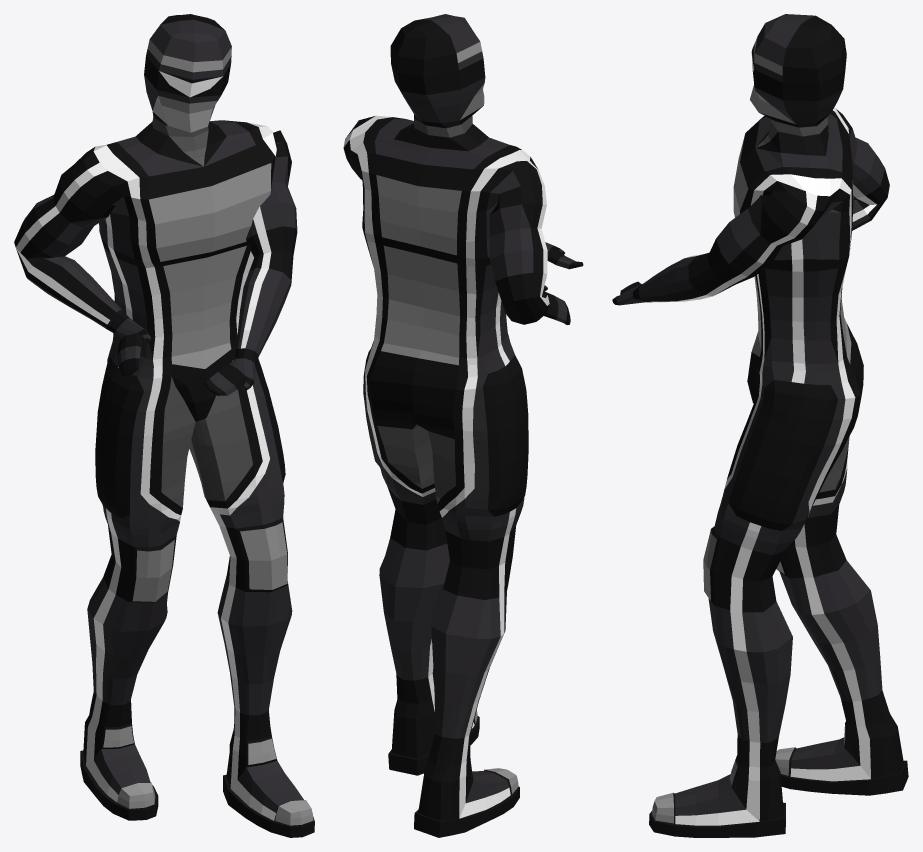
The picture shows the model from 3 angles, left to right: view 1: azimuth 30°, elevation 25°; view 2: azimuth 150°, elevation 25°; view 3: azimuth 270°, elevation 25°; orthographic projection. The views are drawn at different scales.
Parts seen in each view (by area): view 1: metarig_object_metarig_mesh; view 2: metarig_object_metarig_mesh; view 3: metarig_object_metarig_mesh.
Boxes of the visible parts, bbox=[...] form: metarig_object_metarig_mesh: bbox=[14, 14, 314, 837]; metarig_object_metarig_mesh: bbox=[343, 14, 583, 837]; metarig_object_metarig_mesh: bbox=[612, 14, 908, 837].
Bounding box in the file's own units: 0.5738 × 1.85 × 0.6307.
Materials: 1 (1 with a texture image).
